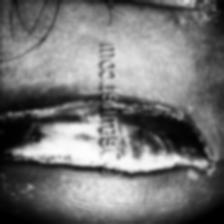Toxin: (0, 139, 222, 186)
